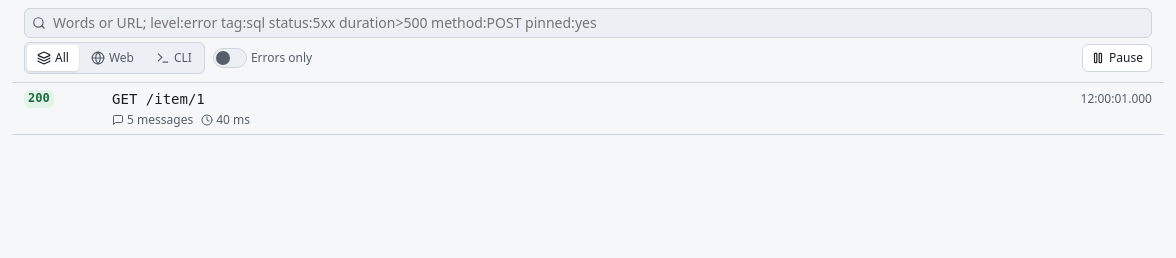
Test: RequestList › pauses the live feed and shows what came in when resumed
What coordinates should you click on to do the following:
click the button "Pause"
I would click on:
 (1117, 58)
Its box is top-left (1082, 44), bottom-right (1152, 72).
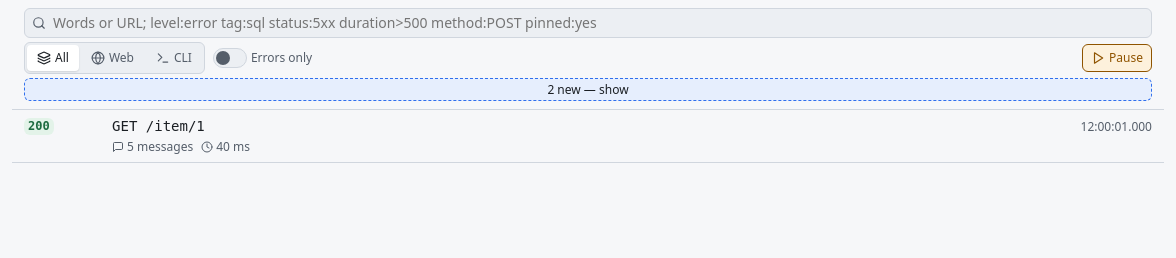
Expected: the number of list items is 1, top-left (12, 110), bottom-right (1164, 163)
What coordinates should you click on to do the following:
click the button "2 new — show"
I would click on:
 (588, 89)
Its box is top-left (24, 78), bottom-right (1152, 101).
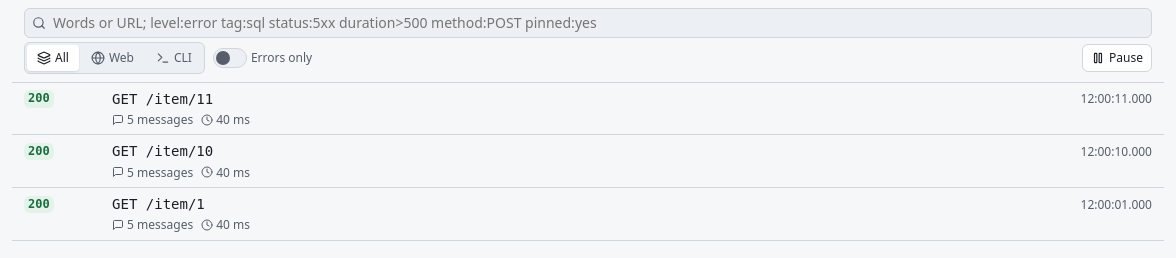
Now the number of list items is 3, box top-left (12, 83), bottom-right (1164, 135); top-left (12, 135), bottom-right (1164, 188); top-left (12, 188), bottom-right (1164, 241)
